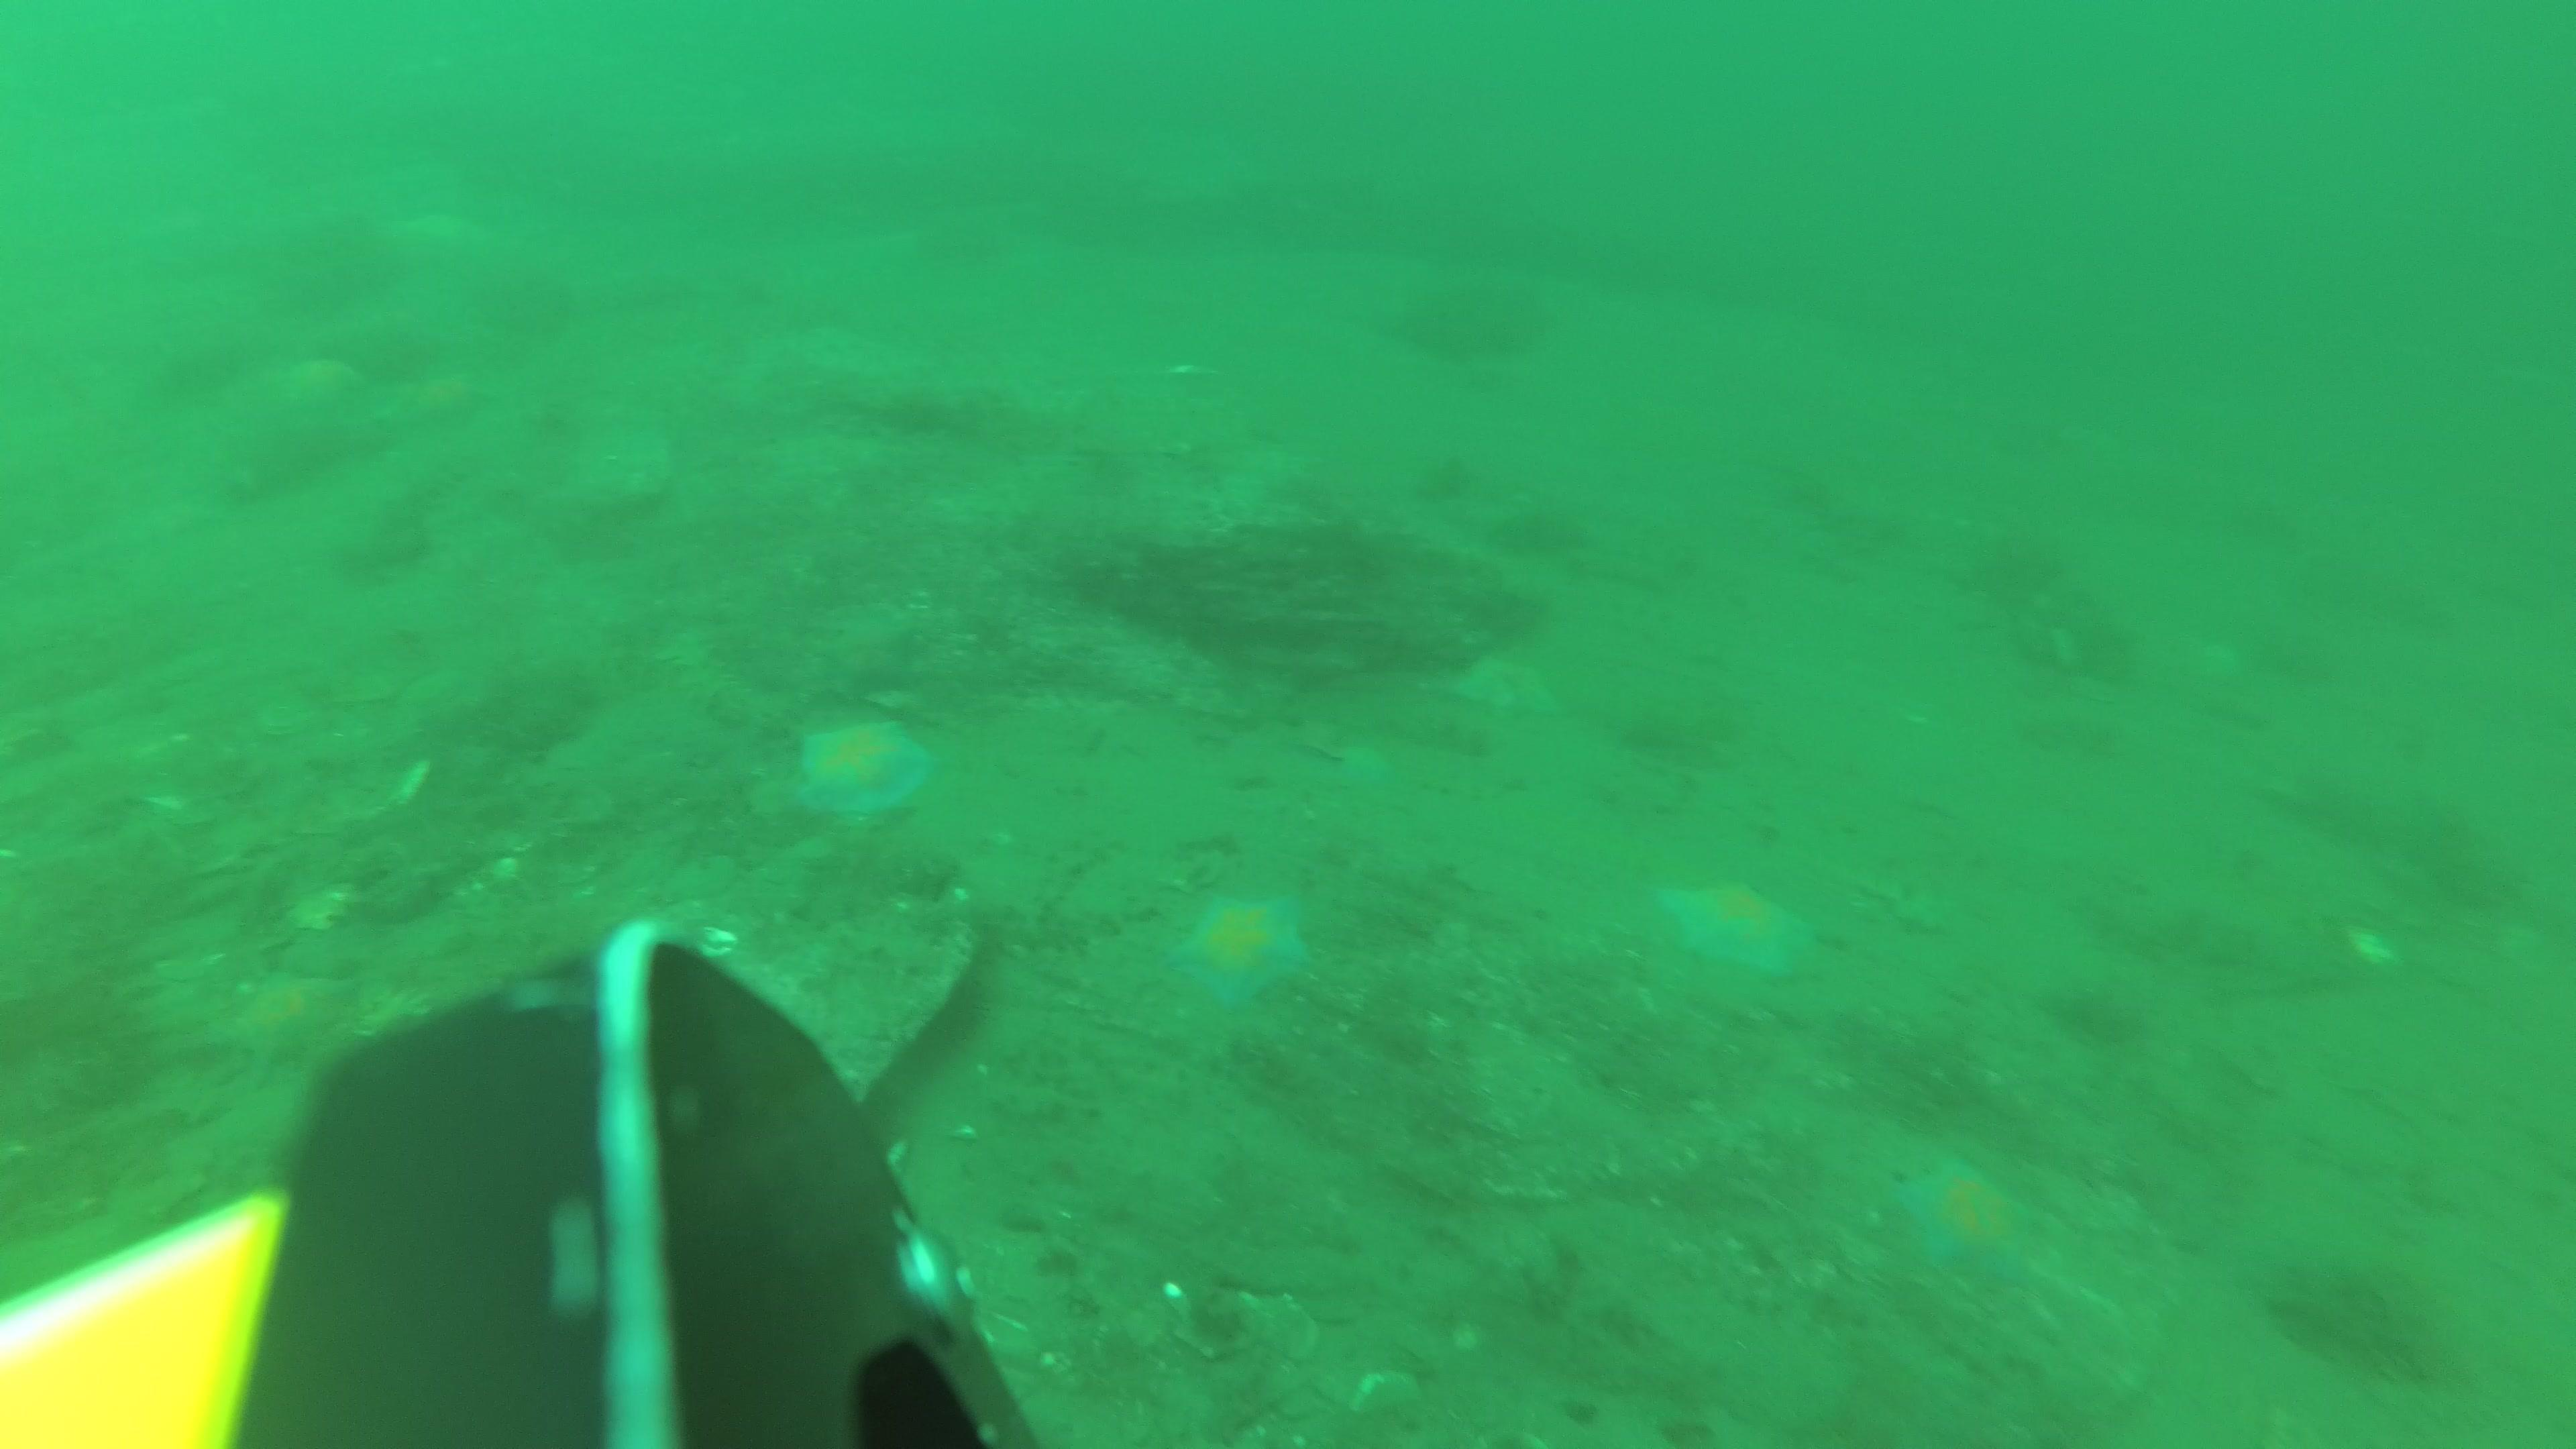holothurian: (363, 984, 428, 1104)
starfish: (1898, 1150, 2052, 1281), (221, 961, 357, 1085), (1180, 893, 1304, 1008), (1660, 885, 1806, 975), (798, 722, 931, 821), (272, 357, 363, 421), (407, 370, 490, 435)
